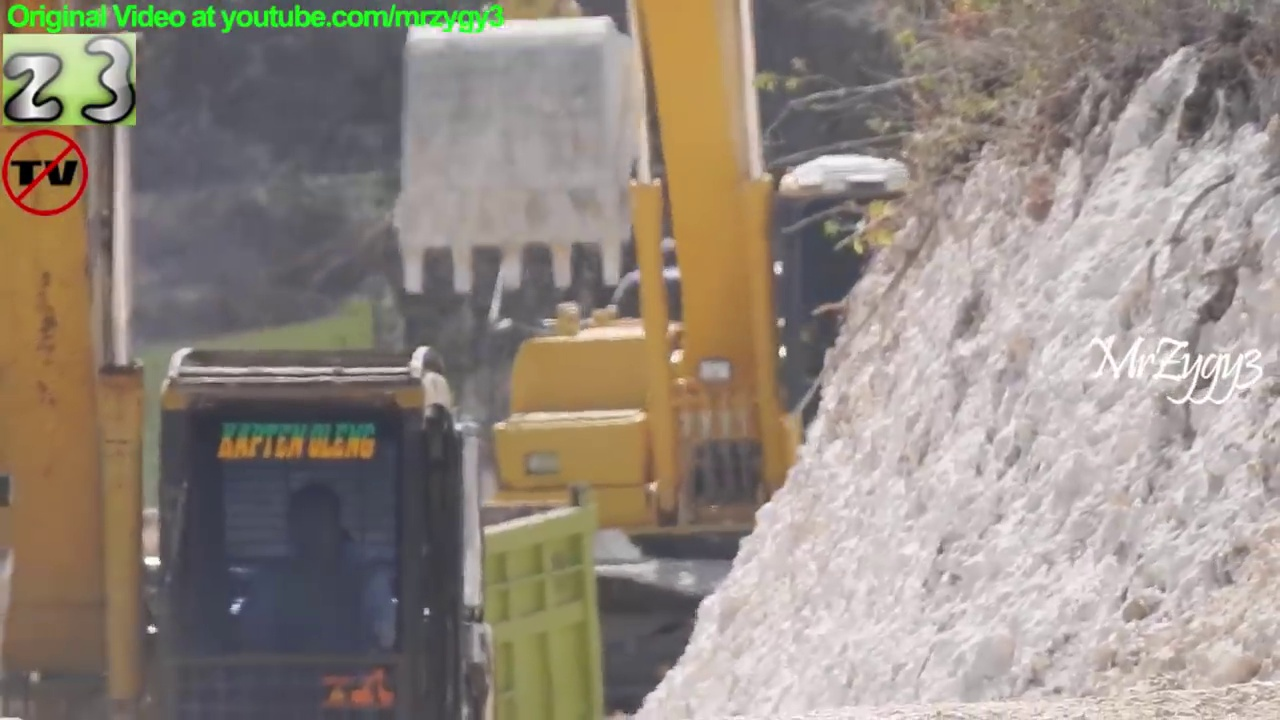excavator: (338, 1, 995, 720), (1, 1, 541, 720)
truck: (1, 474, 619, 720), (1, 271, 437, 528)
